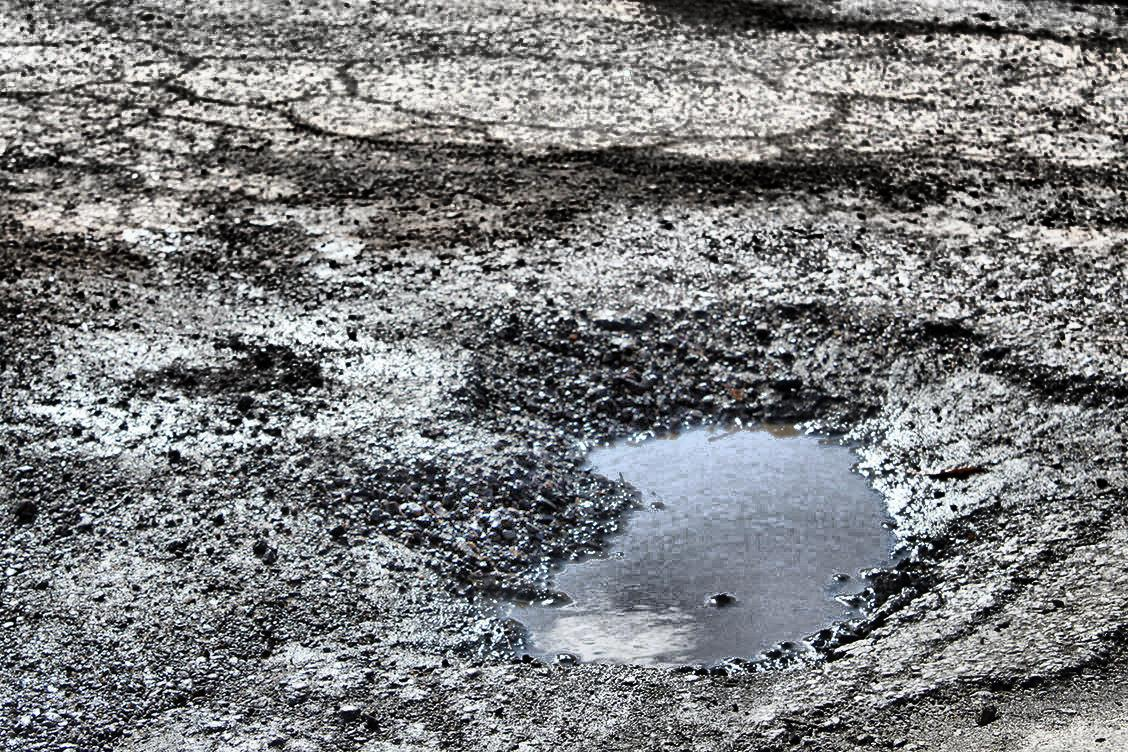pothole: (469, 303, 1003, 707)
